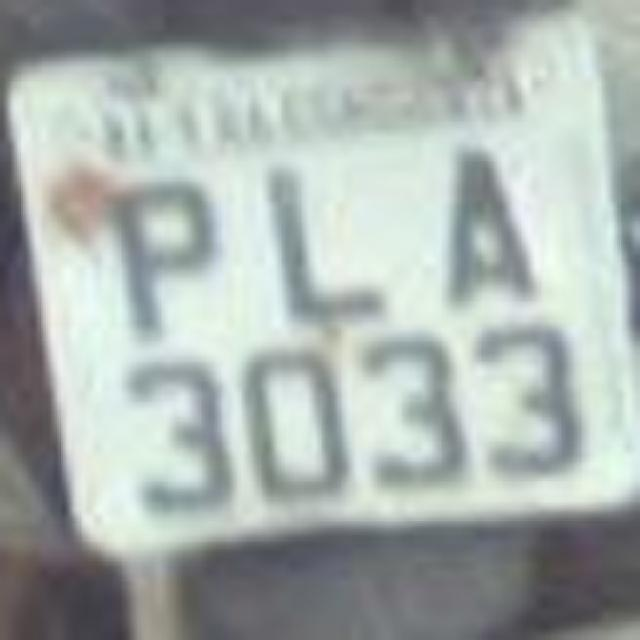0: (220, 328, 372, 512)
3: (80, 329, 265, 536), (320, 311, 495, 504), (440, 304, 605, 496)
A: (412, 128, 548, 332)
J: (256, 148, 392, 340)
P: (92, 152, 232, 352)
